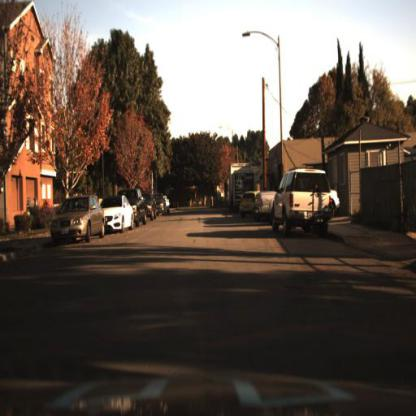car: (266, 165, 337, 243), (50, 192, 106, 247), (102, 194, 138, 240), (103, 192, 135, 237), (232, 166, 256, 217), (123, 186, 148, 230), (135, 189, 149, 231), (255, 190, 274, 217), (147, 186, 158, 228), (240, 191, 254, 217), (157, 189, 168, 220)
